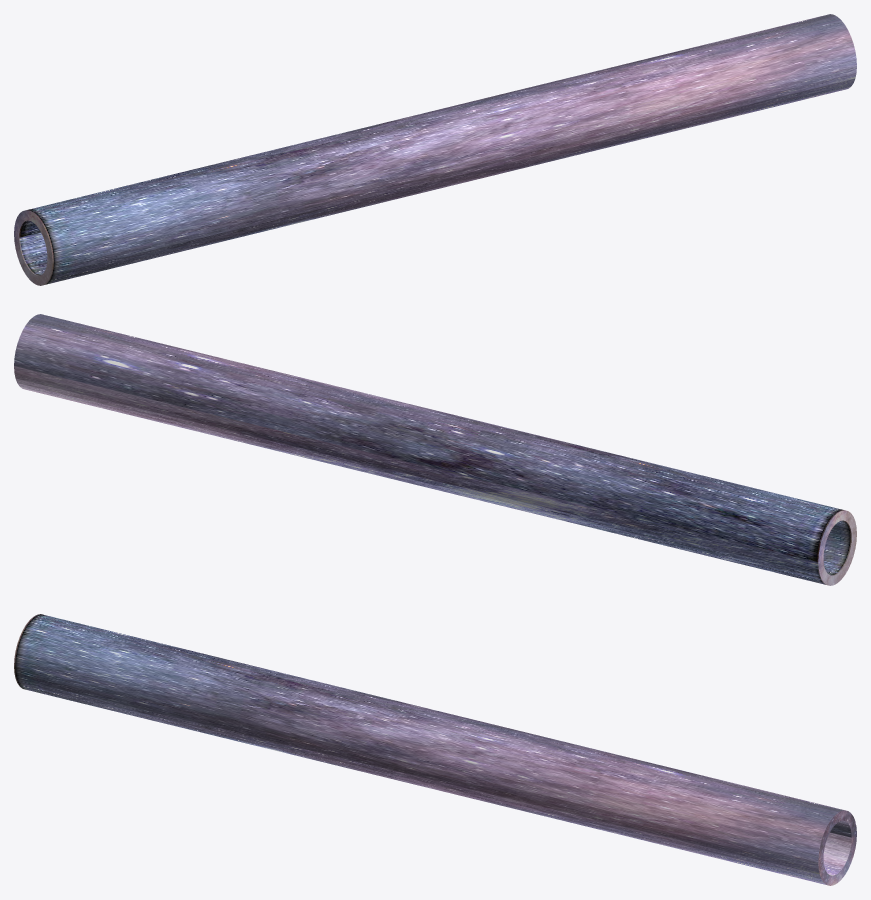
File: tunnel2.glb
3 renders of one model, top to bottom at view 1: azimuth 30°, elevation 25°; view 2: azimuth 150°, elevation 25°; view 3: azimuth 330°, elevation 25°, orthographic.
Visible parts, largest first — view 1: 실린더; view 2: 실린더; view 3: 실린더.
Boxes of the visible parts, x1,y1,x2,y2 form: 실린더: (14, 14, 856, 285); 실린더: (14, 314, 856, 585); 실린더: (14, 614, 856, 885).
Bounding box in the file's own units: 24 × 2 × 2.
1 material, 1 textured.
